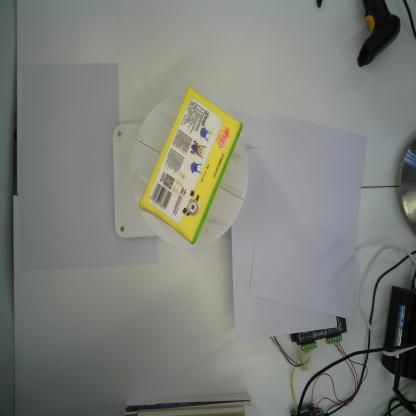Tissue: (137, 84, 244, 246)
